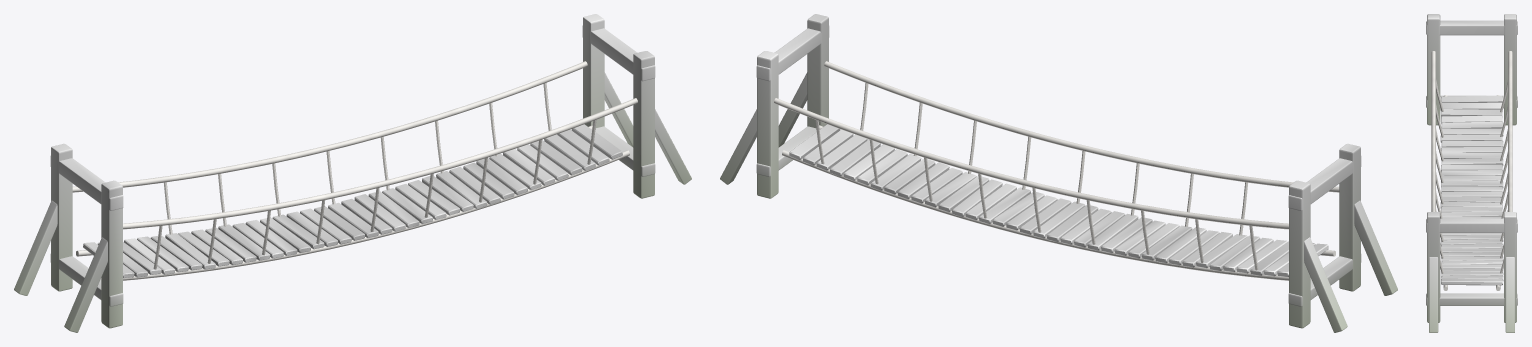
The model's file is prop-rope-bridge.glb.
3 views of the same model, side by side, from view 1: azimuth 30°, elevation 25°; view 2: azimuth 150°, elevation 25°; view 3: azimuth 270°, elevation 25° (orthographic). The views are drawn at different scales.
Visible parts, largest first — view 1: deck, posts_L, posts_R; view 2: deck, posts_L, posts_R; view 3: deck, posts_R, posts_L.
Part boxes in pixels (x1,y1,x2,y2): deck: (72,61,637,280); posts_L: (14,143,123,332); posts_R: (582,14,691,198); deck: (774,61,1339,280); posts_L: (1288,143,1397,332); posts_R: (720,14,829,198); deck: (1431,51,1512,290); posts_R: (1426,212,1517,332); posts_L: (1426,14,1517,125).
Size of the model in its own units: 1.17 by 0.252 by 0.1961.
Materials: 2 (2 with a texture image).
